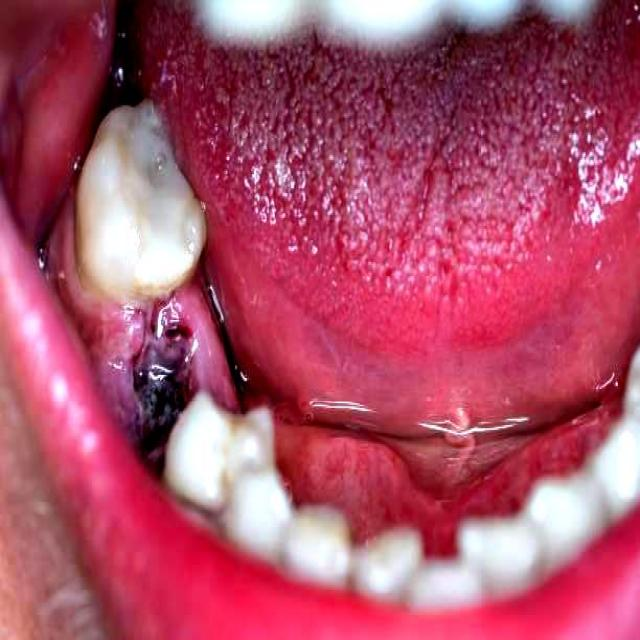caries: (106, 305, 211, 430)
